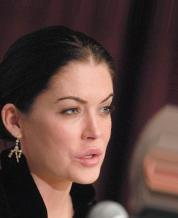face: (59, 95, 114, 165)
